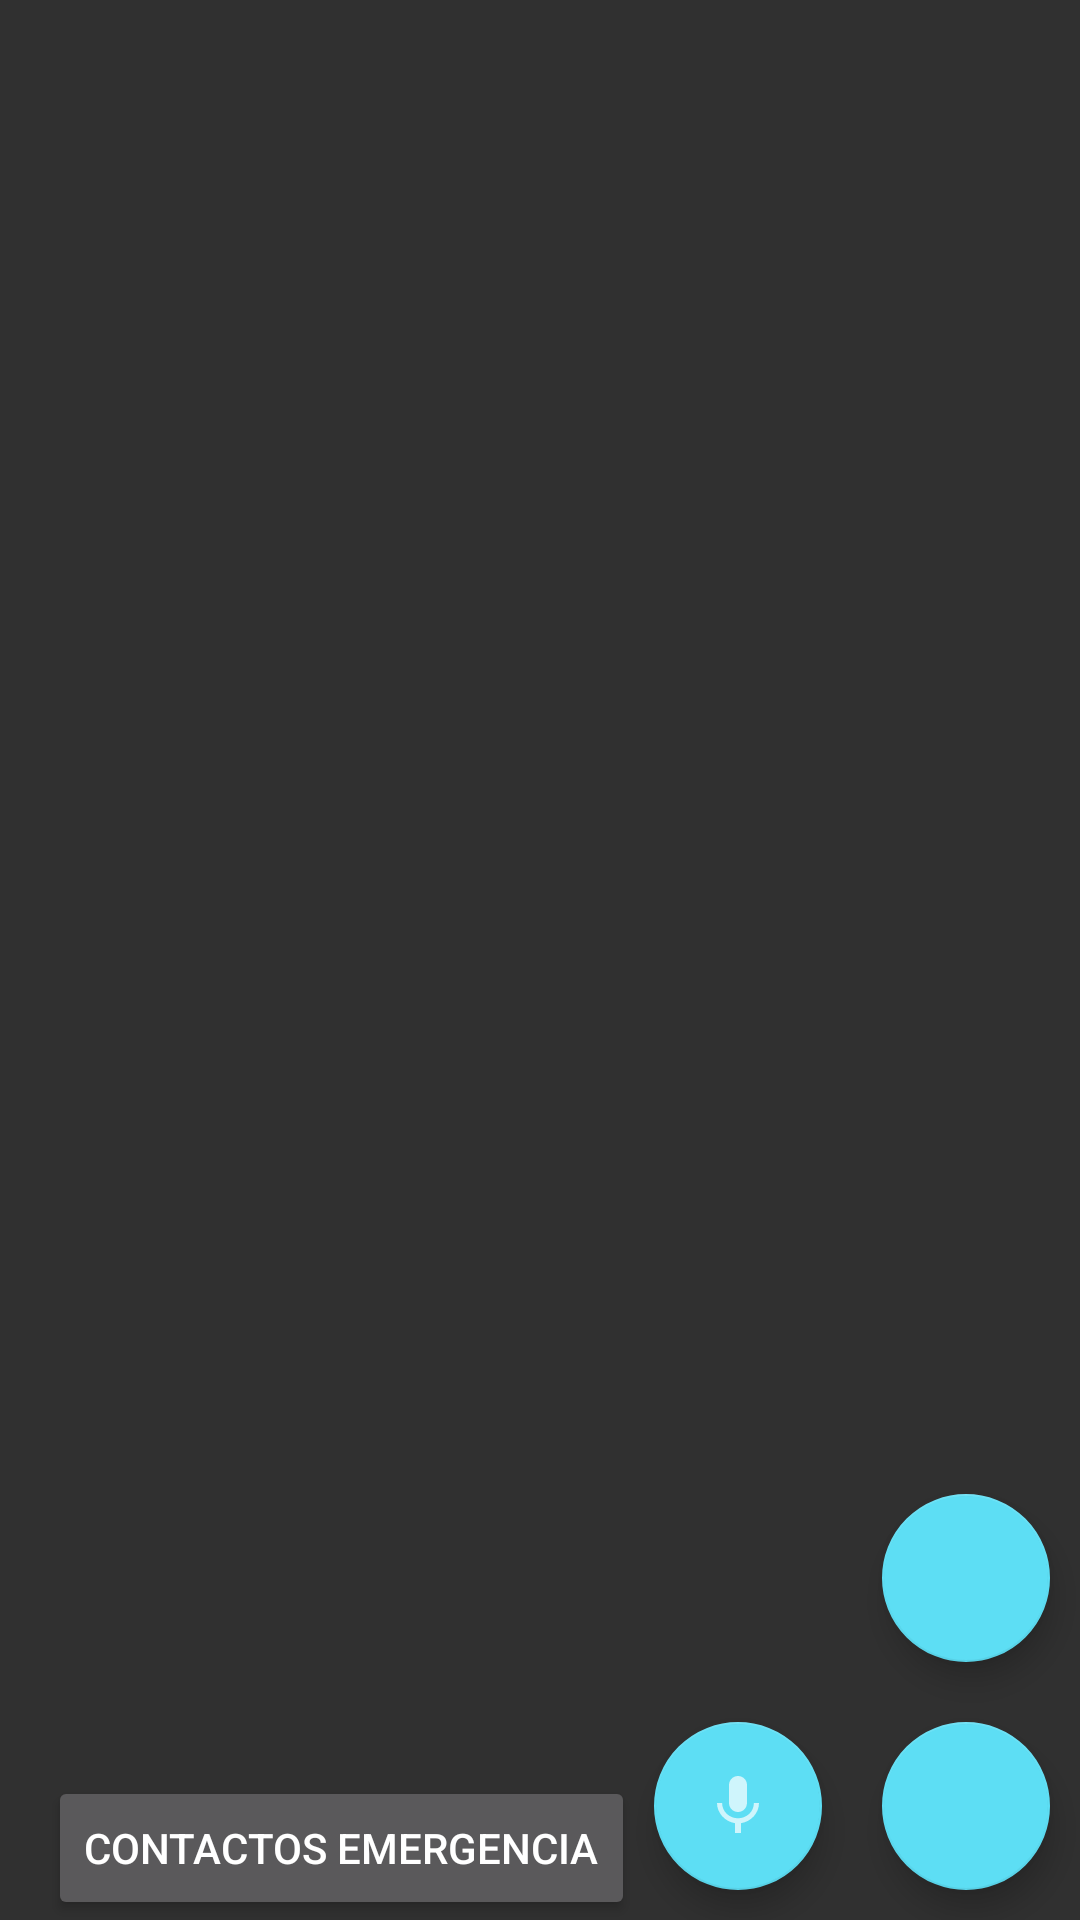

Named icons in this screenshot (1080×1920) and their bounding boxes, (x1, y1, x2, y2):
voice: (654, 1722, 822, 1890)
